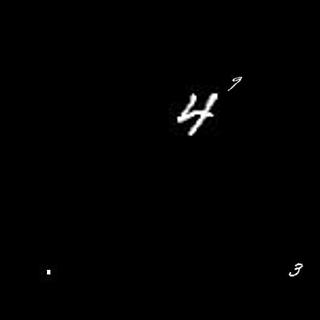dot: (45, 269, 56, 276)
four: (175, 91, 218, 138)
nine: (225, 72, 244, 93)
three: (285, 262, 303, 277)
